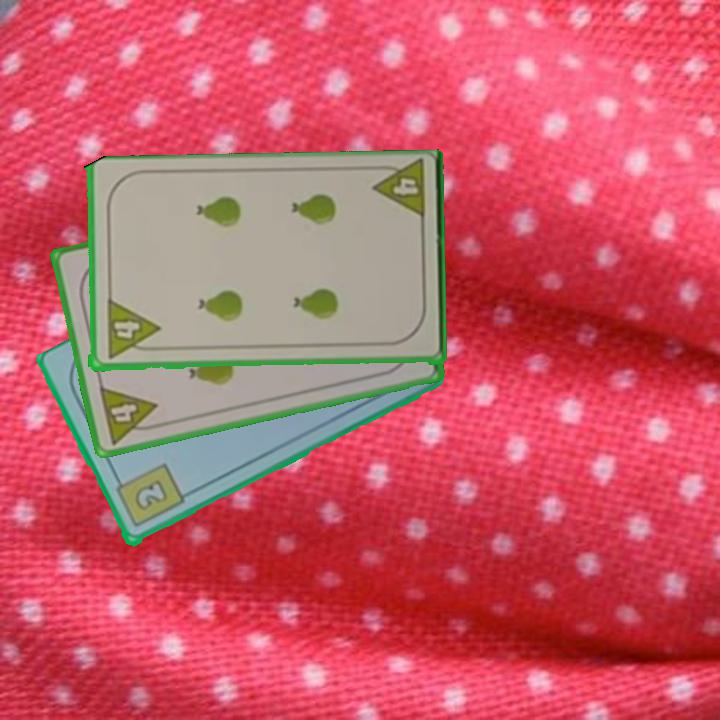2b: (111, 460, 187, 531)
4p: (95, 383, 164, 447), (368, 159, 428, 224), (102, 297, 161, 362)
